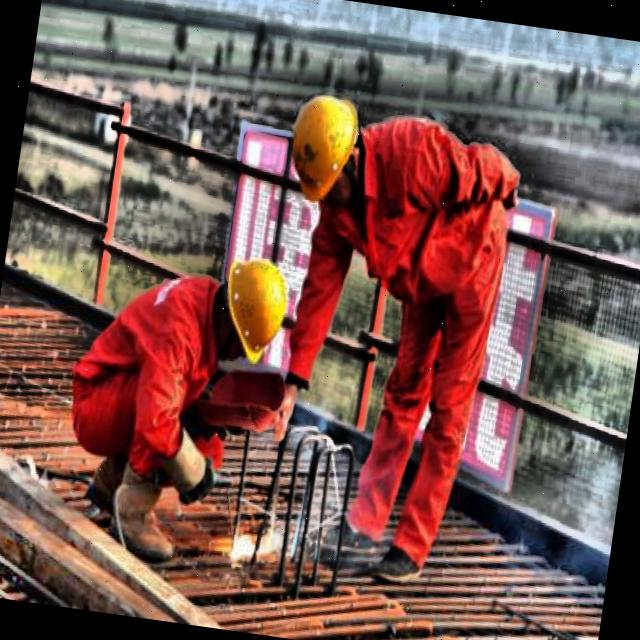helmet: (272, 82, 374, 212), (211, 242, 307, 374)
